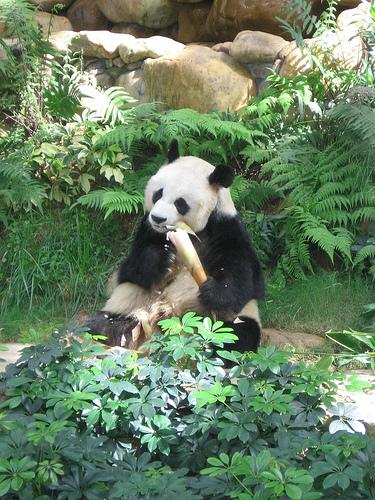panda: (84, 139, 264, 351)
